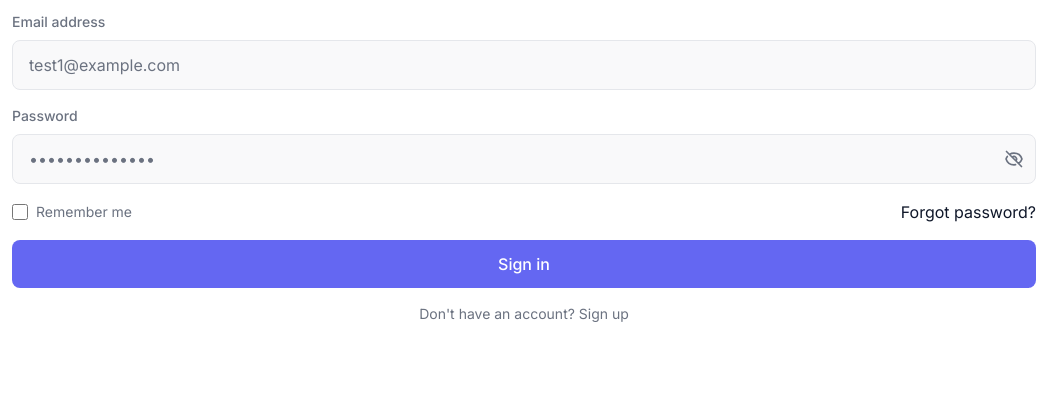
Test: LoginForm › should show a generic error message when login fails
Type "user@example.com" into the field labelled "Email address" at (524, 65), box [12, 40, 1036, 90]
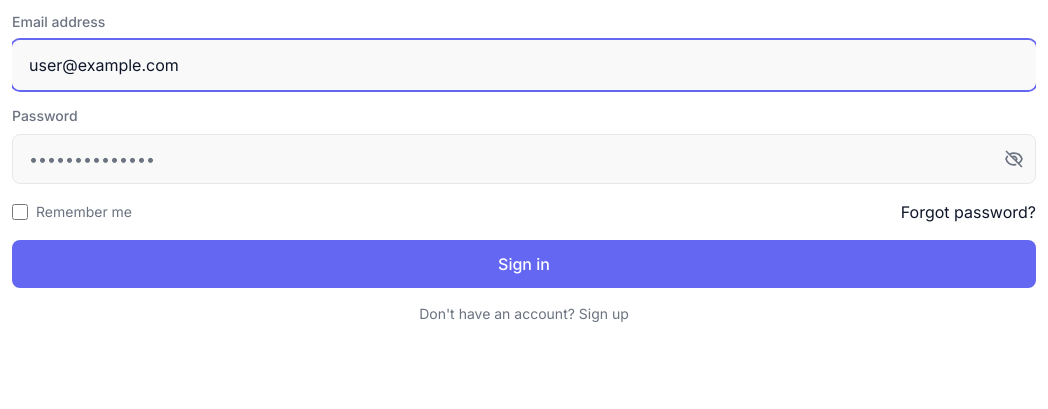
Type "wrongpassword" into the password field labelled "Password" at (524, 159), box [12, 134, 1036, 184]
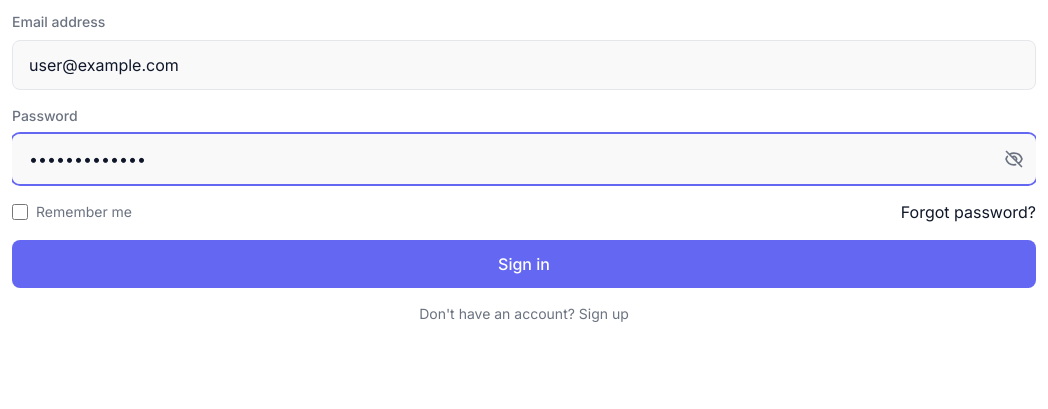
Click the button "Sign in" at (524, 264), box [12, 240, 1036, 288]
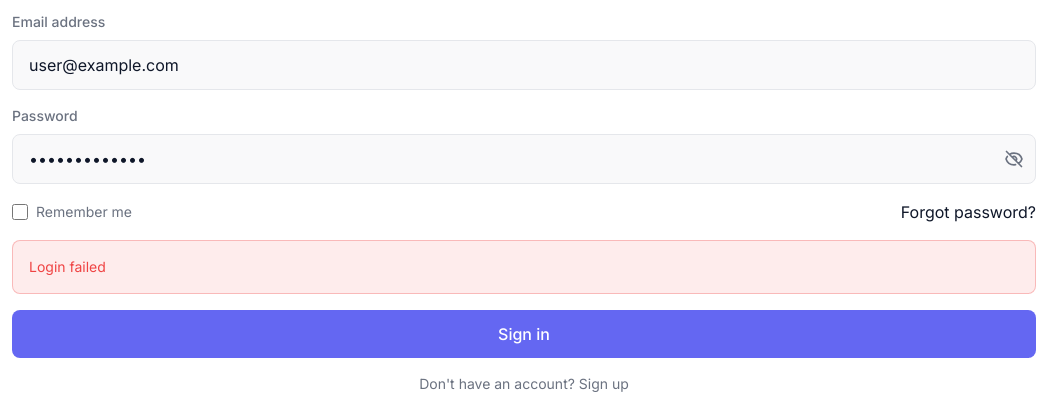
Result: the text "Login failed" is shown at [29, 258, 106, 275]
